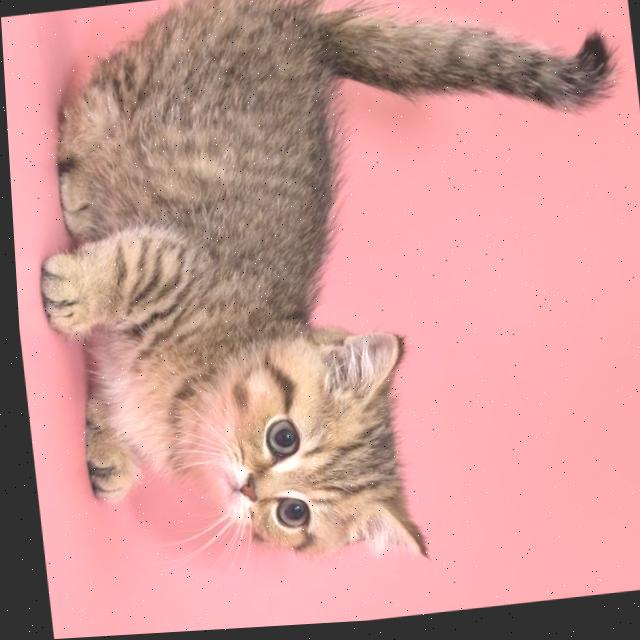Munchkin: (5, 0, 640, 605)
